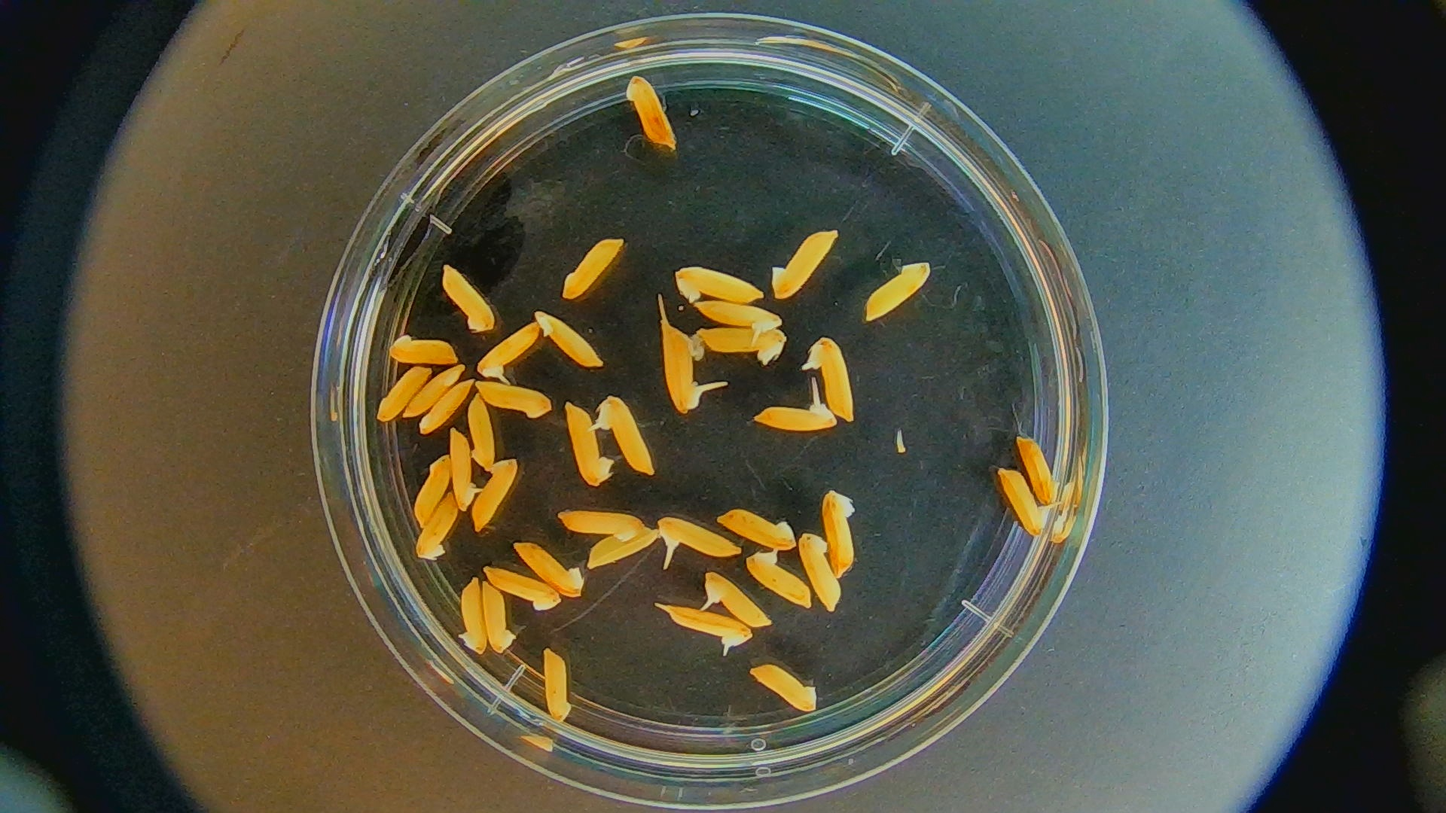no: (563, 394, 619, 487), (510, 539, 590, 601), (437, 261, 498, 337), (770, 228, 834, 300), (622, 72, 679, 150), (558, 236, 624, 303), (746, 548, 813, 613), (864, 260, 929, 321), (471, 457, 522, 534), (480, 565, 563, 612), (532, 314, 604, 368), (404, 453, 457, 526), (698, 324, 789, 365), (798, 532, 844, 613), (375, 362, 434, 424), (418, 376, 474, 440), (1014, 431, 1061, 504), (749, 664, 816, 715), (464, 394, 508, 471), (415, 493, 464, 562), (552, 507, 648, 542), (676, 265, 762, 303), (474, 382, 556, 421), (720, 510, 795, 550), (480, 577, 515, 657), (590, 531, 660, 571), (385, 330, 458, 368), (823, 491, 856, 575), (456, 574, 488, 657), (543, 649, 577, 720)
yes: (690, 298, 797, 352), (596, 393, 662, 476), (474, 318, 549, 383), (993, 464, 1054, 540), (700, 567, 776, 628), (806, 336, 856, 423), (657, 322, 700, 414), (668, 607, 752, 650), (660, 516, 741, 558), (756, 403, 837, 438), (450, 428, 482, 516)
